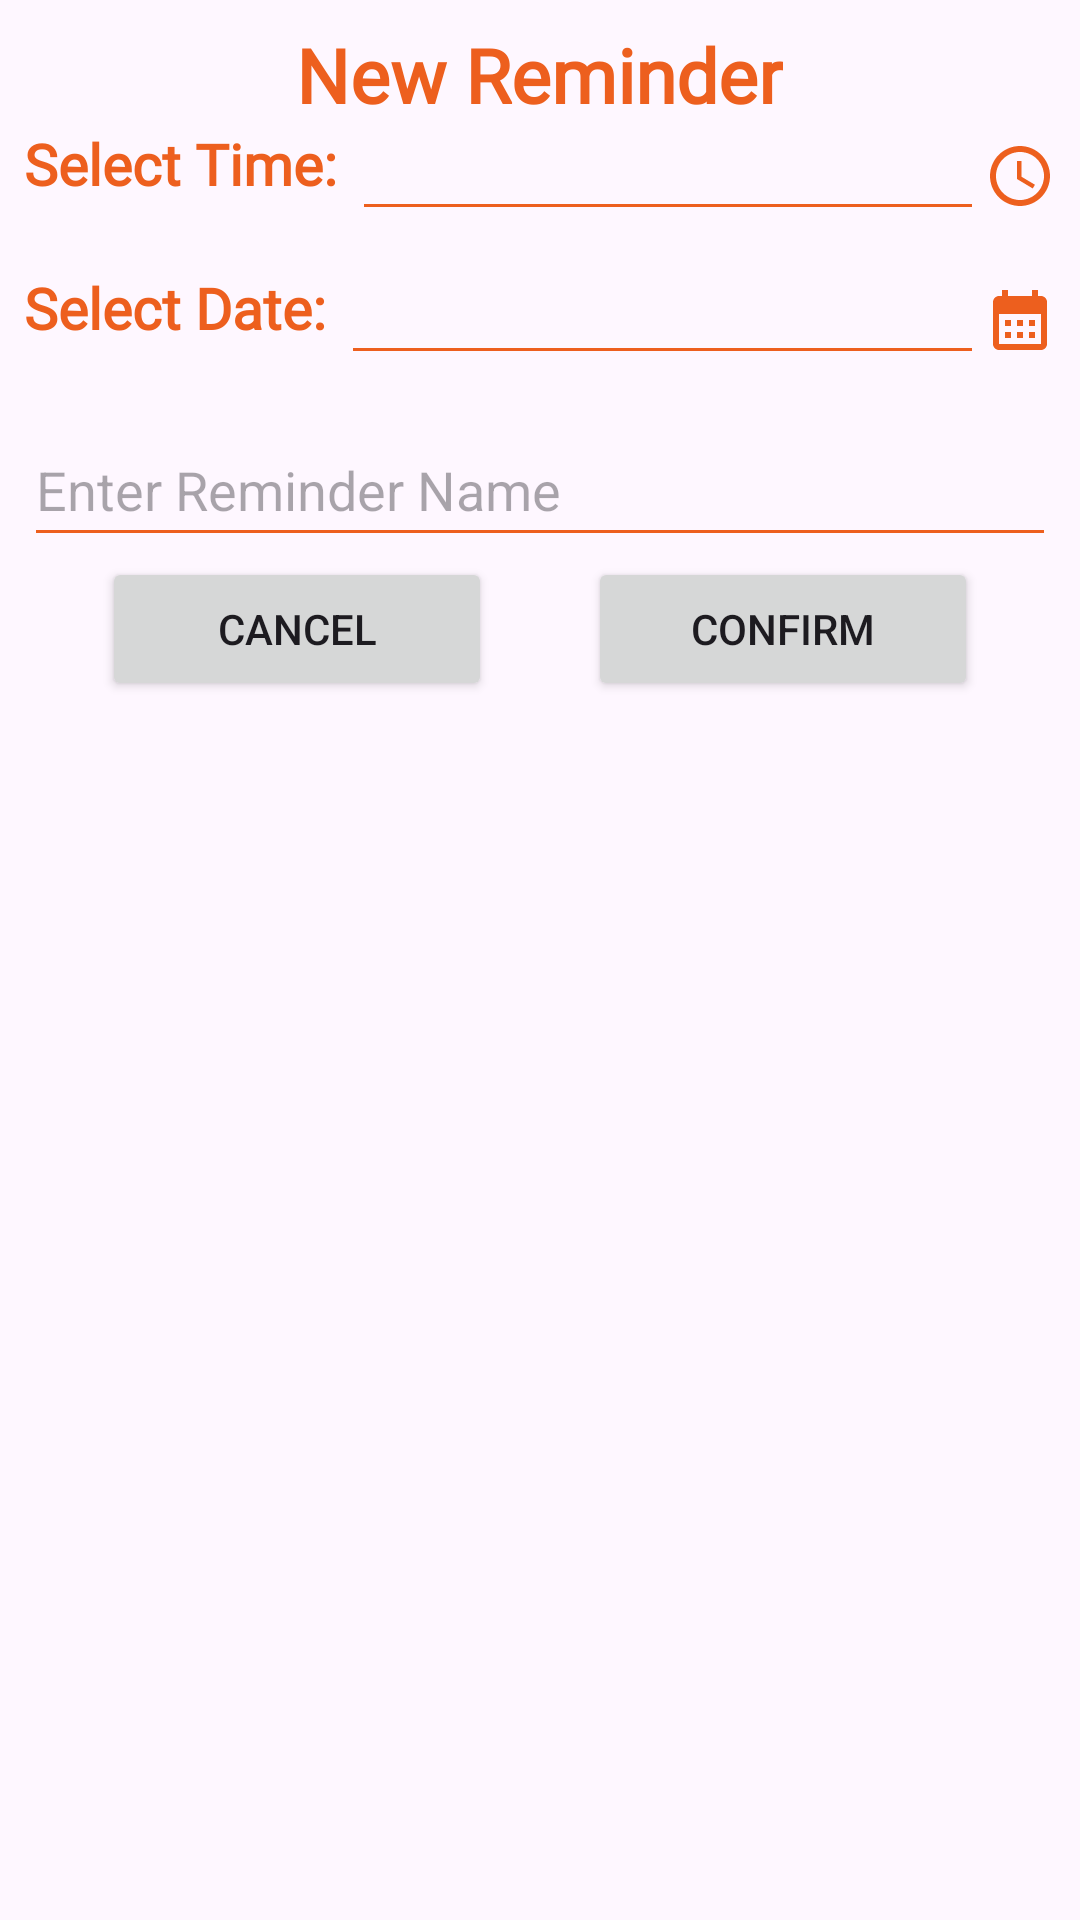

Icon click points for this 1080px×1920px phone screenshot, format [x,y]:
Select Date: [1020,320]
Time: [1020,176]
